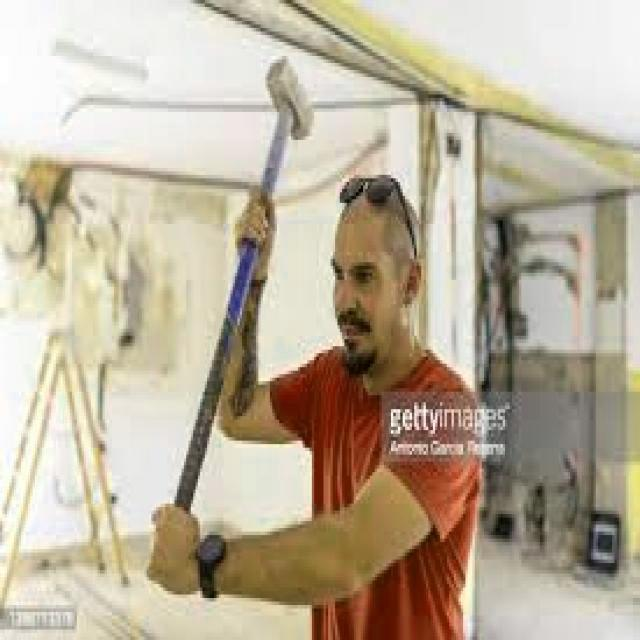hammer: (170, 51, 328, 544)
